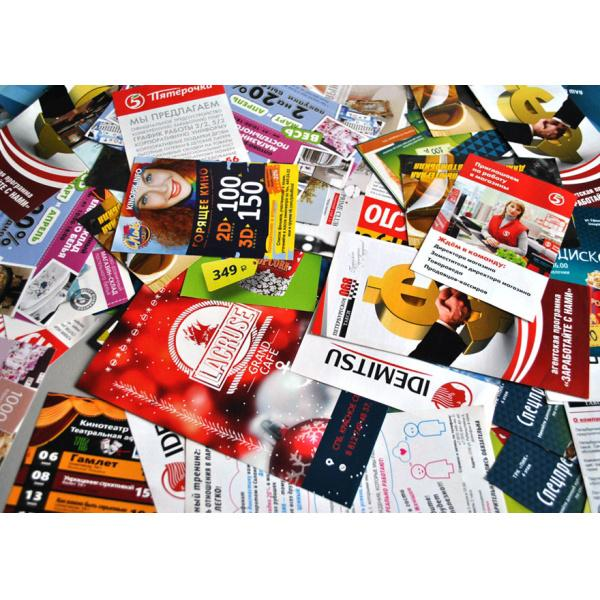paper: (0, 85, 600, 514)
